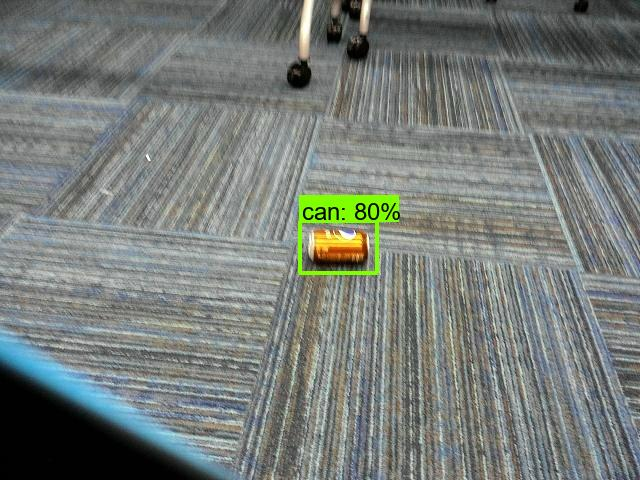can: (306, 223, 372, 269)
